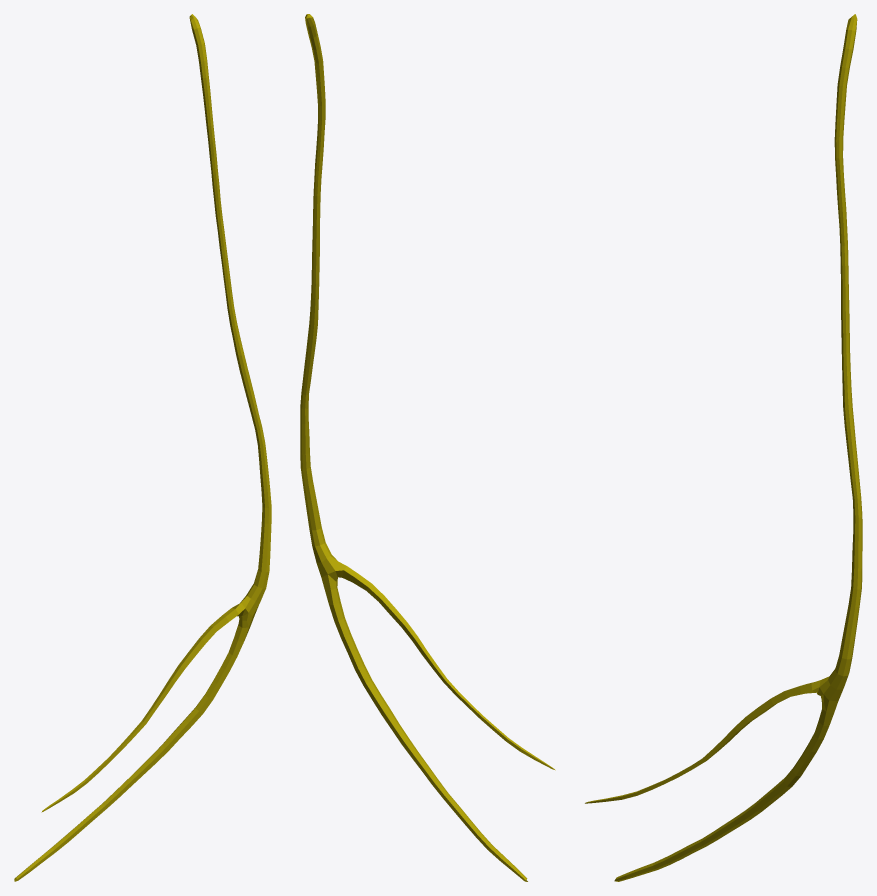
Rendered from Glossopharyngeal_nerve_L.glb.
The picture shows the model from 3 angles, left to right: view 1: azimuth 30°, elevation 25°; view 2: azimuth 150°, elevation 25°; view 3: azimuth 330°, elevation 25°; orthographic projection. The views are drawn at different scales.
Parts seen in each view (by area): view 1: Glossopharyngeal_nerve_L; view 2: Glossopharyngeal_nerve_L; view 3: Glossopharyngeal_nerve_L.
Boxes of the visible parts, x1=… form: Glossopharyngeal_nerve_L: x1=14, y1=14, x2=271, y2=881; Glossopharyngeal_nerve_L: x1=300, y1=14, x2=555, y2=881; Glossopharyngeal_nerve_L: x1=585, y1=14, x2=862, y2=881.
Size of the model in its own units: 0.0865 by 0.2796 by 0.0291.
Materials: 1 (1 with a texture image).
